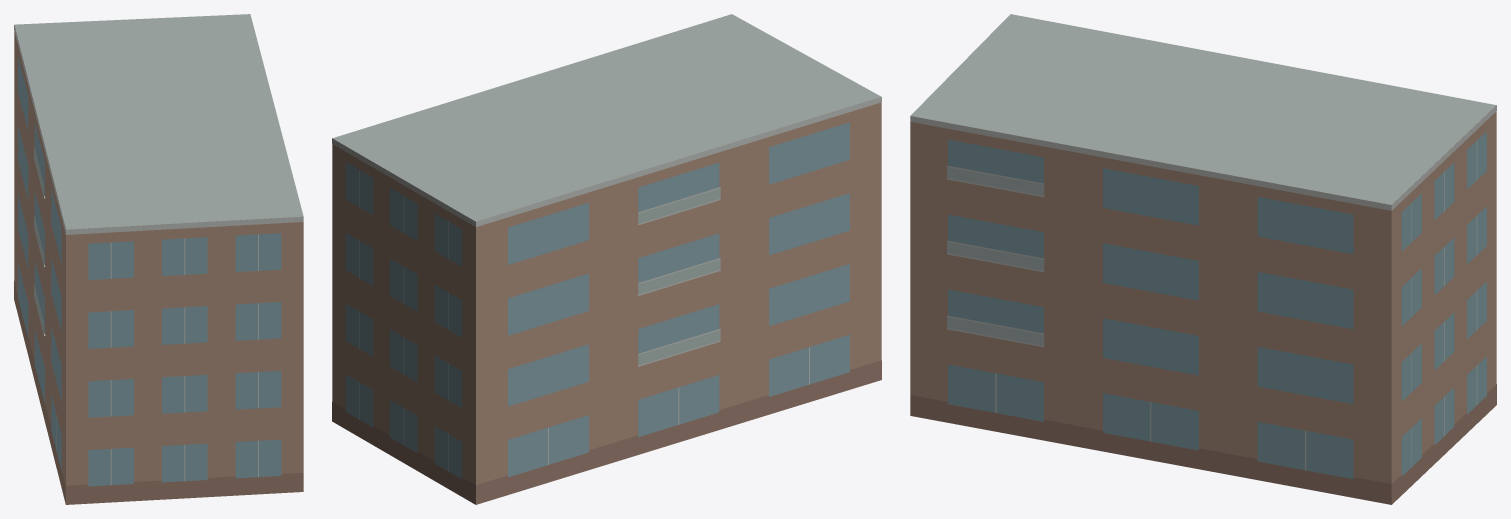
The model's file is survey-upis-32907973.glb.
3 renders of one model, left to right at view 1: azimuth 30°, elevation 25°; view 2: azimuth 150°, elevation 25°; view 3: azimuth 270°, elevation 25°, orthographic. The views are drawn at different scales.
Parts seen in each view (by area): view 1: survey-upis-32907973.tmp; view 2: survey-upis-32907973.tmp; view 3: survey-upis-32907973.tmp.
Part boxes in pixels (x1,y1,x2,y2): survey-upis-32907973.tmp: [14, 14, 303, 504]; survey-upis-32907973.tmp: [332, 14, 881, 504]; survey-upis-32907973.tmp: [910, 14, 1496, 504].
Size of the model in its own units: 17.22 by 12.6 by 22.35.
